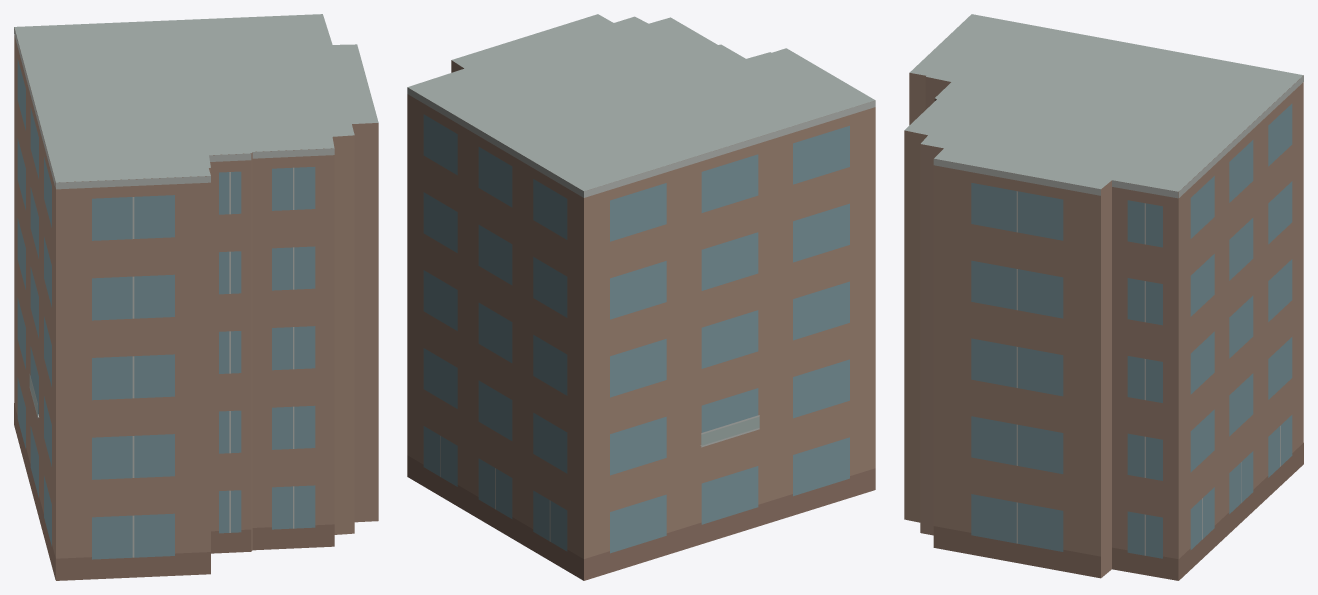
The model's file is survey-upis-32659163.glb.
3 views of the same model, side by side, from view 1: azimuth 30°, elevation 25°; view 2: azimuth 150°, elevation 25°; view 3: azimuth 270°, elevation 25° (orthographic). The views are drawn at different scales.
Visible parts, largest first — view 1: survey-upis-32659163.tmp; view 2: survey-upis-32659163.tmp; view 3: survey-upis-32659163.tmp.
Boxes of the visible parts, box(x1,y1,x2,y2) form: survey-upis-32659163.tmp: box(14, 14, 378, 580); survey-upis-32659163.tmp: box(407, 14, 875, 580); survey-upis-32659163.tmp: box(904, 14, 1303, 580).
Bounding box in the file's own units: 13.97 × 14.25 × 13.27.
